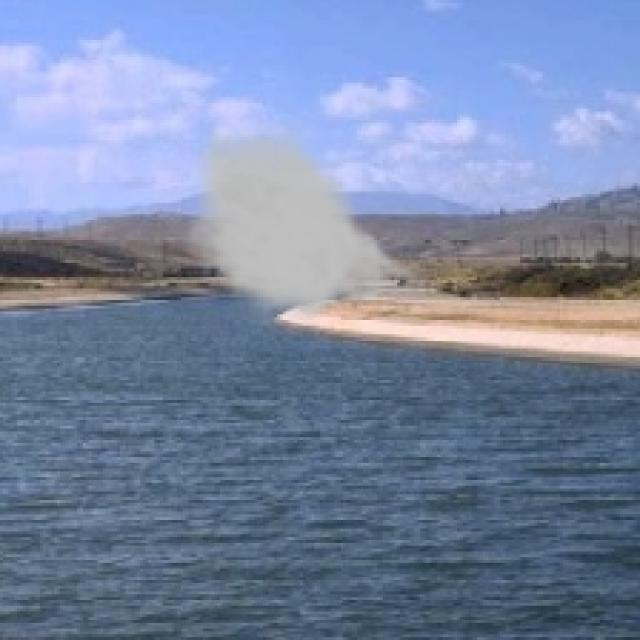smoke: (183, 117, 437, 329)
